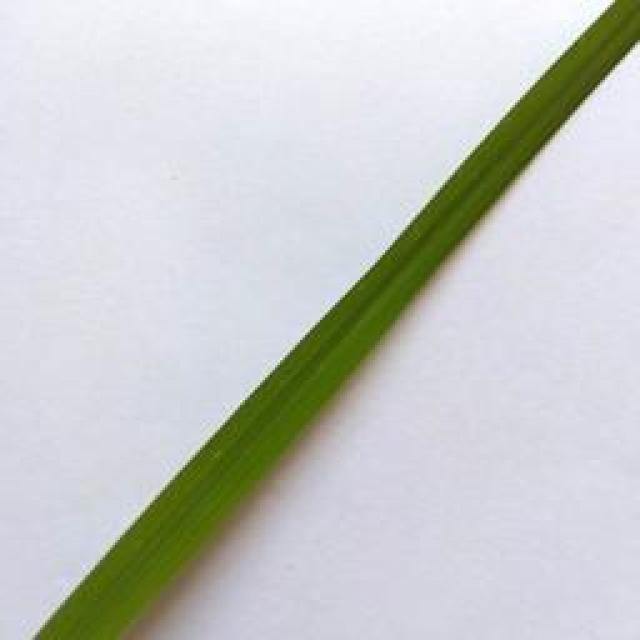Healthy-Plant: (35, 439, 209, 640), (412, 85, 547, 318), (199, 320, 321, 571), (310, 212, 424, 433), (525, 0, 640, 188)
